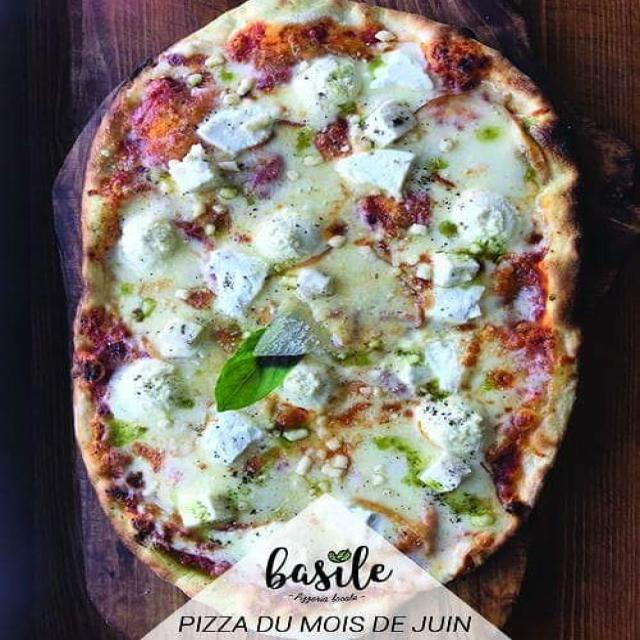basil: (214, 323, 301, 417)
pizza: (66, 0, 593, 640)
